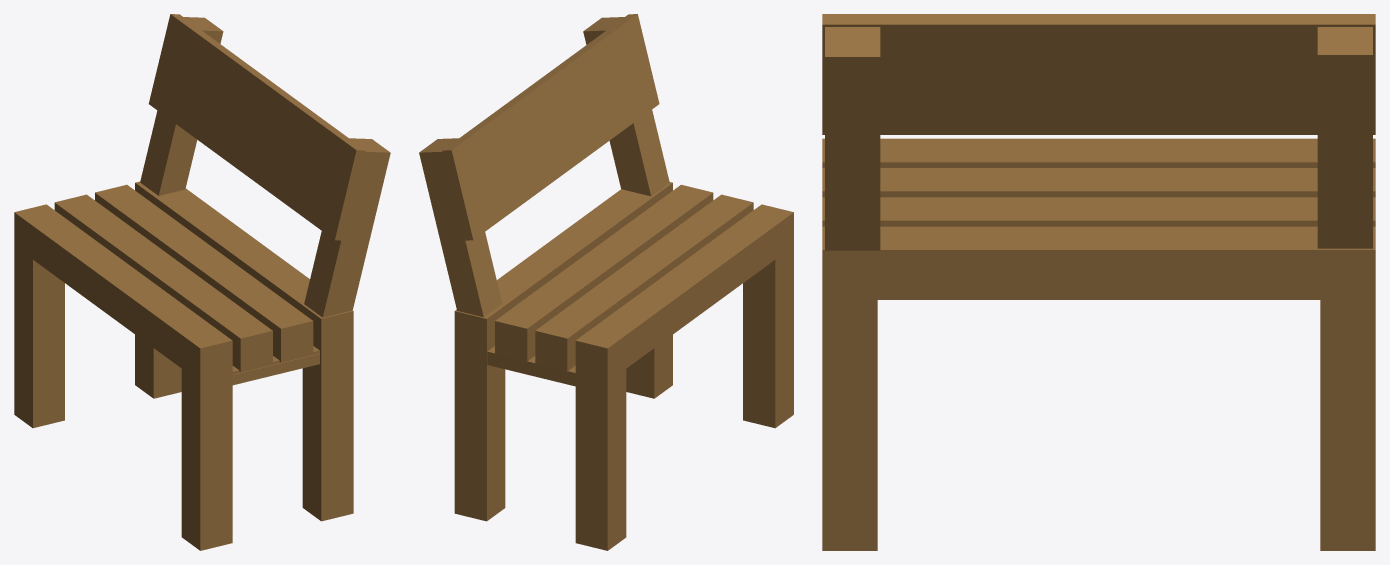
The model's file is bench.fbx.
The picture shows the model from 3 angles, left to right: view 1: azimuth 30°, elevation 25°; view 2: azimuth 150°, elevation 25°; view 3: azimuth 270°, elevation 25°; orthographic projection. The views are drawn at different scales.
Parts seen in each view (by area): view 1: Back3, SitBack, LegBack1, SitFront, SitPartMid, LegFront1, LegBack2, SitFront.001, Back2, Back1, LegFront2, LegFront2.002; view 2: Back3, SitBack, LegBack2, SitFront, SitPartMid, LegFront2, LegBack1, SitFront.001, Back1, Back2, LegFront1, LegFront2.001; view 3: Back3, SitFront.001, LegFront2, LegFront1, SitPartMid, SitFront, SitBack, Back2, Back1.
Boxes of the visible parts, x1,y1,x2,y2 form: Back3: [148, 14, 365, 240]; SitBack: [14, 204, 232, 381]; LegBack1: [181, 369, 232, 550]; SitFront: [95, 184, 313, 362]; SitPartMid: [54, 194, 272, 372]; LegFront1: [302, 345, 353, 521]; LegBack2: [14, 246, 64, 428]; SitFront.001: [135, 181, 353, 352]; Back2: [304, 138, 390, 317]; Back1: [140, 17, 223, 195]; LegFront2: [135, 334, 181, 398]; LegFront2.002: [232, 346, 319, 385]; Back3: [442, 14, 659, 240]; SitBack: [575, 204, 793, 382]; LegBack2: [575, 369, 626, 550]; SitFront: [495, 184, 713, 362]; SitPartMid: [535, 194, 753, 372]; LegFront2: [454, 345, 505, 521]; LegBack1: [743, 246, 793, 428]; SitFront.001: [454, 182, 672, 352]; Back1: [419, 138, 502, 317]; Back2: [583, 17, 669, 196]; LegFront1: [626, 335, 672, 398]; LegFront2.001: [487, 346, 575, 386]; Back3: [822, 14, 1375, 134]; SitFront.001: [822, 226, 1375, 299]; LegFront2: [1320, 300, 1375, 550]; LegFront1: [822, 300, 877, 550]; SitPartMid: [822, 168, 1375, 197]; SitFront: [822, 197, 1375, 226]; SitBack: [822, 138, 1375, 167]; Back2: [825, 27, 880, 250]; Back1: [1317, 27, 1372, 248].
Size of the model in its own units: 119 by 215 by 200.
